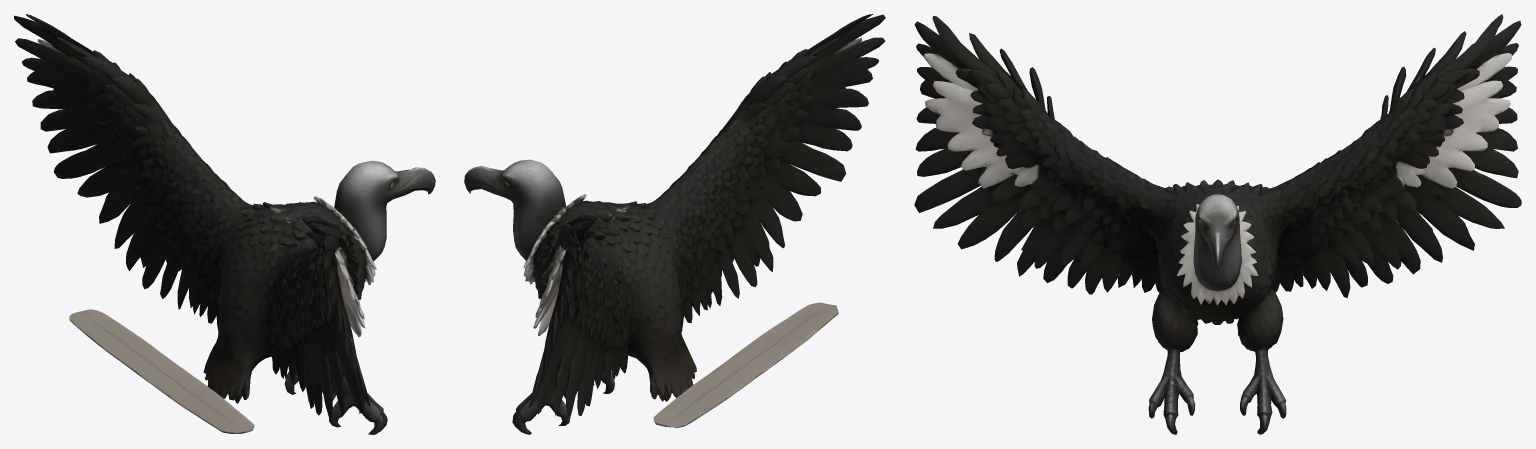
File: condor.glb
3 views of the same model, side by side, from view 1: azimuth 30°, elevation 25°; view 2: azimuth 150°, elevation 25°; view 3: azimuth 270°, elevation 25° (orthographic). The views are drawn at different scales.
Parts seen in each view (by area): view 1: geometry_0; view 2: geometry_0; view 3: geometry_0.
Part boxes in pixels (box(x1,y1,x2,y2)): geometry_0: box(14, 14, 435, 434); geometry_0: box(464, 14, 885, 434); geometry_0: box(914, 14, 1521, 434).
Bounding box in the file's own units: 0.5507 × 0.6061 × 0.9973.
Materials: 1 (1 with a texture image).
